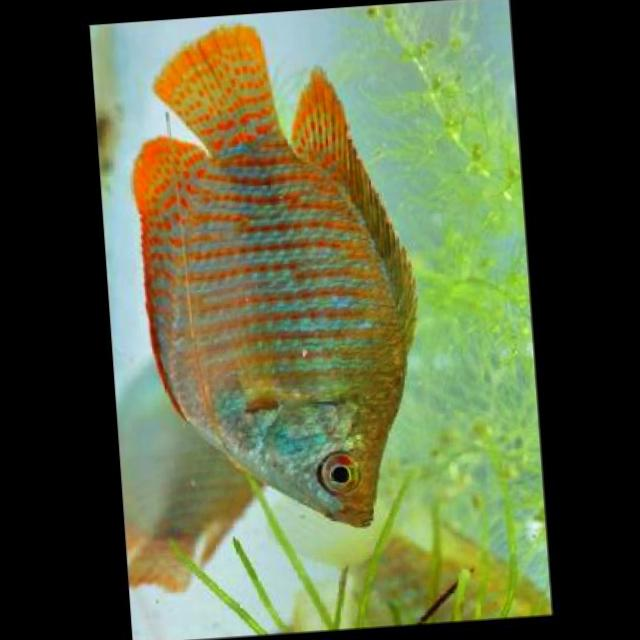Gourami: (118, 10, 444, 543)
